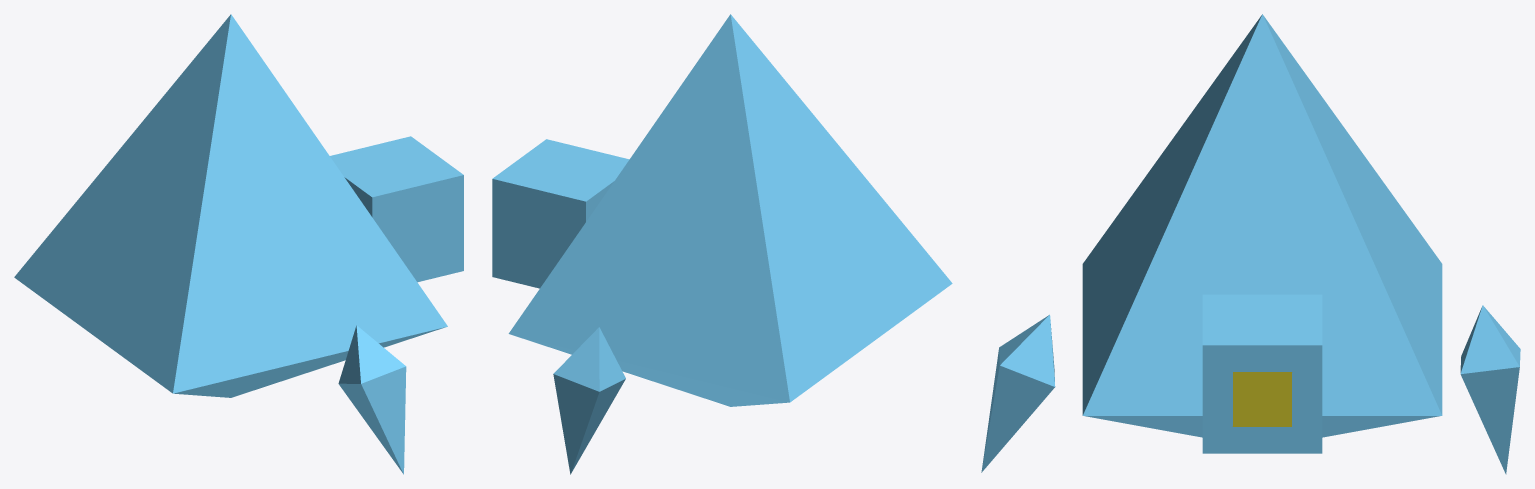
File: crystal.obj
3 renders of one model, left to right at view 1: azimuth 30°, elevation 25°; view 2: azimuth 150°, elevation 25°; view 3: azimuth 270°, elevation 25°, orthographic. The views are drawn at different scales.
Visible parts, largest first — view 1: cone; view 2: cone; view 3: cone.
Boxes of the visible parts, x1=… form: cone: x1=14, y1=14, x2=463, y2=474; cone: x1=492, y1=14, x2=952, y2=474; cone: x1=981, y1=14, x2=1520, y2=474.
Bounding box in the file's own units: 0.9375 × 1 × 1.12.
Materials: 1 (1 with a texture image).
